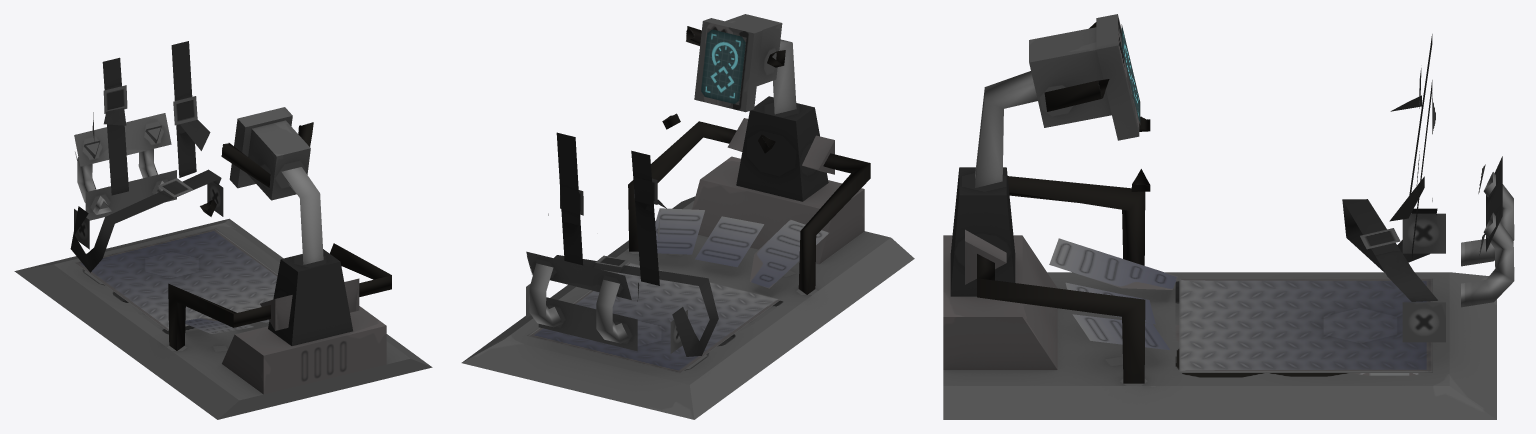
The model's file is obj_interactive_driverseat_01_lod1.fbx.
The picture shows the model from 3 angles, left to right: view 1: azimuth 30°, elevation 25°; view 2: azimuth 150°, elevation 25°; view 3: azimuth 270°, elevation 25°; orthographic projection. The views are drawn at different scales.
Parts seen in each view (by area): view 1: obj_interactive_driverseat_01_lod1; view 2: obj_interactive_driverseat_01_lod1; view 3: obj_interactive_driverseat_01_lod1.
Part boxes in pixels (box(x1,y1,x2,y2)): obj_interactive_driverseat_01_lod1: box(14, 41, 432, 419); obj_interactive_driverseat_01_lod1: box(461, 14, 914, 419); obj_interactive_driverseat_01_lod1: box(943, 14, 1514, 419).
Size of the model in its own units: 3.5 by 3.63 by 5.97.
Materials: 1 (1 with a texture image).
